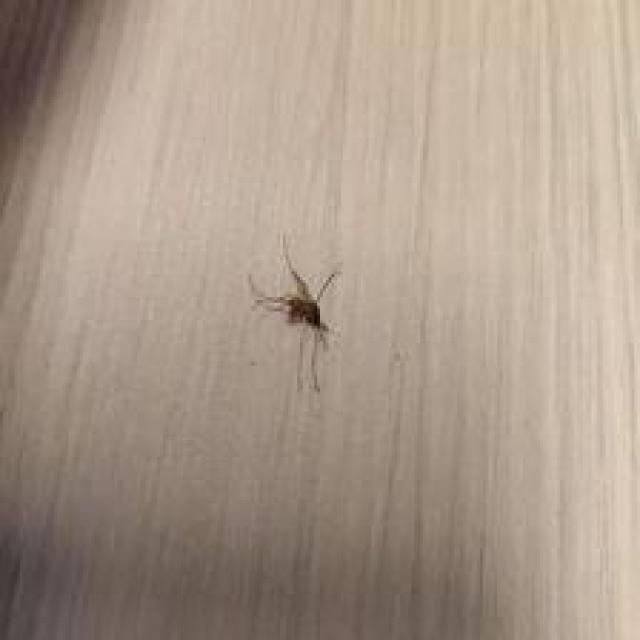Culex: (247, 232, 342, 394)
